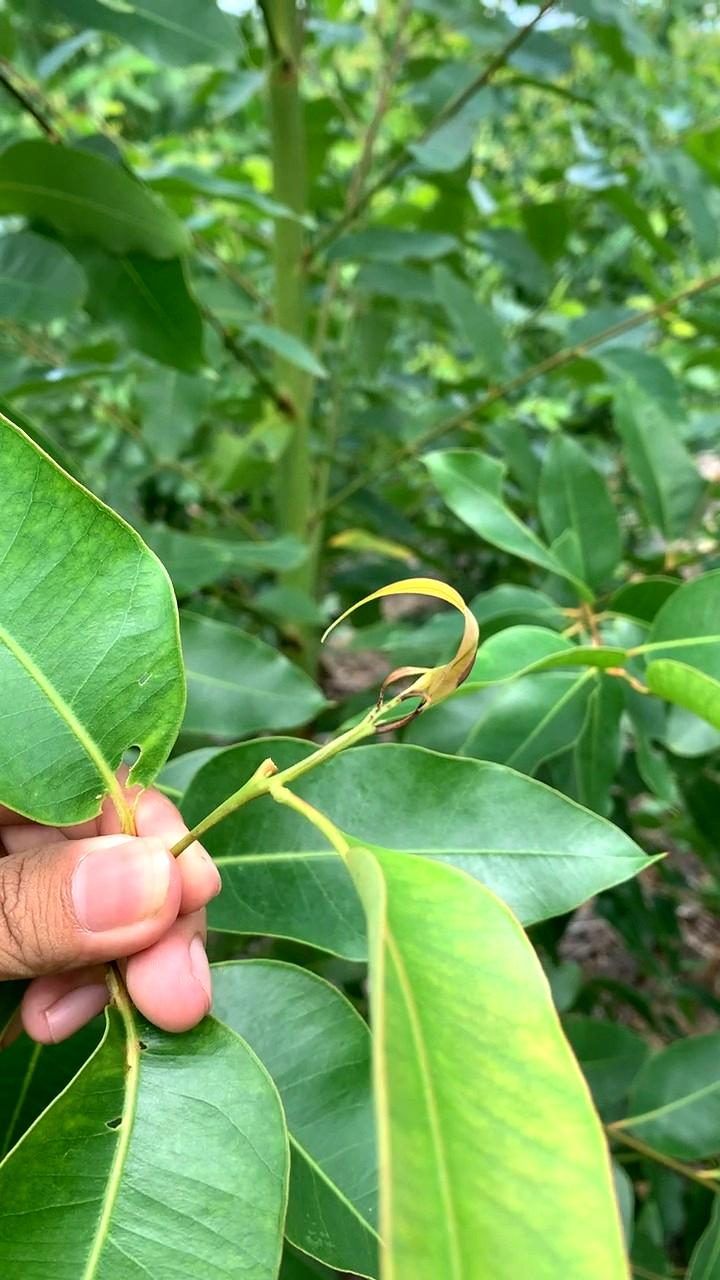Helopeltis-Withered Sprout: (323, 568, 481, 717)
